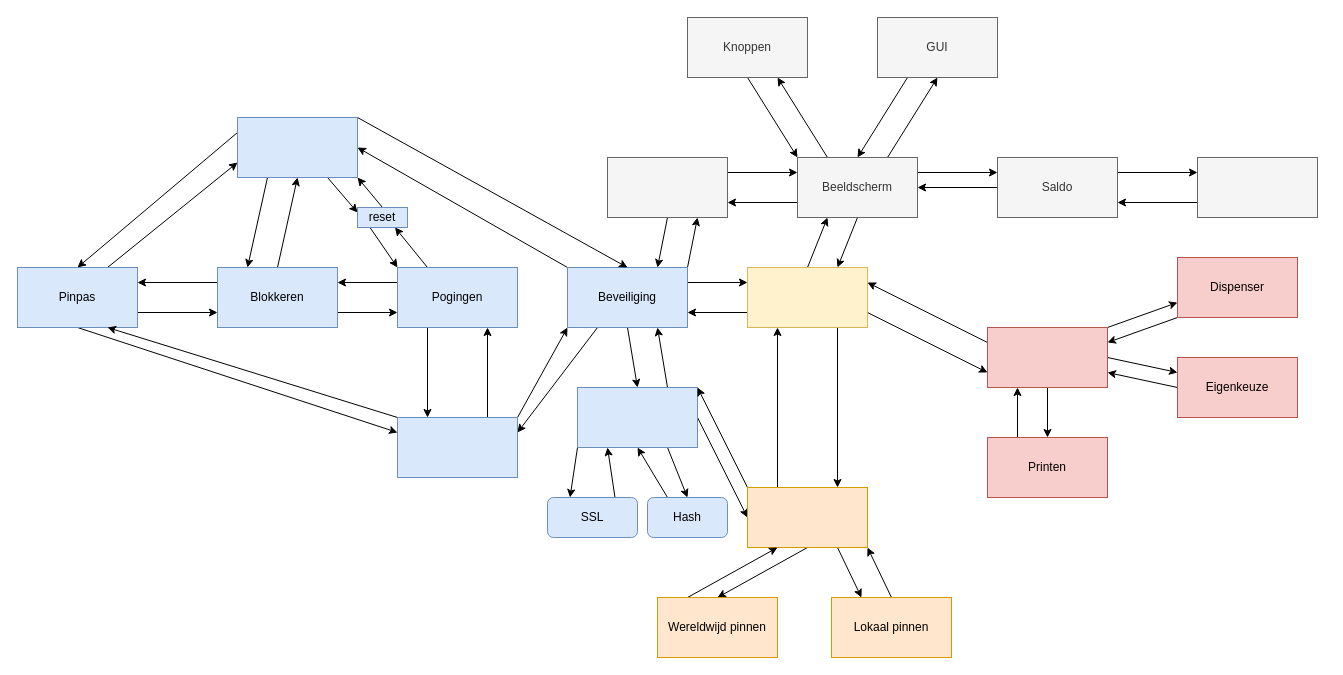
The diagram is 1343 pixels wide and 675 high, and some of its shapes have lost their labels. Each missing label, with the centre of its shape:
"Autorisatie" goes at (x=457, y=447).
"Bank proces" goes at (x=807, y=297).
"Geld" goes at (x=1047, y=357).
"Inloggen" goes at (x=297, y=147).
"Inloggen?" goes at (x=667, y=187).
"Security" goes at (x=637, y=417).
"weergave" goes at (x=1257, y=187).
"Wereldwijd lokaal" goes at (x=807, y=517).
